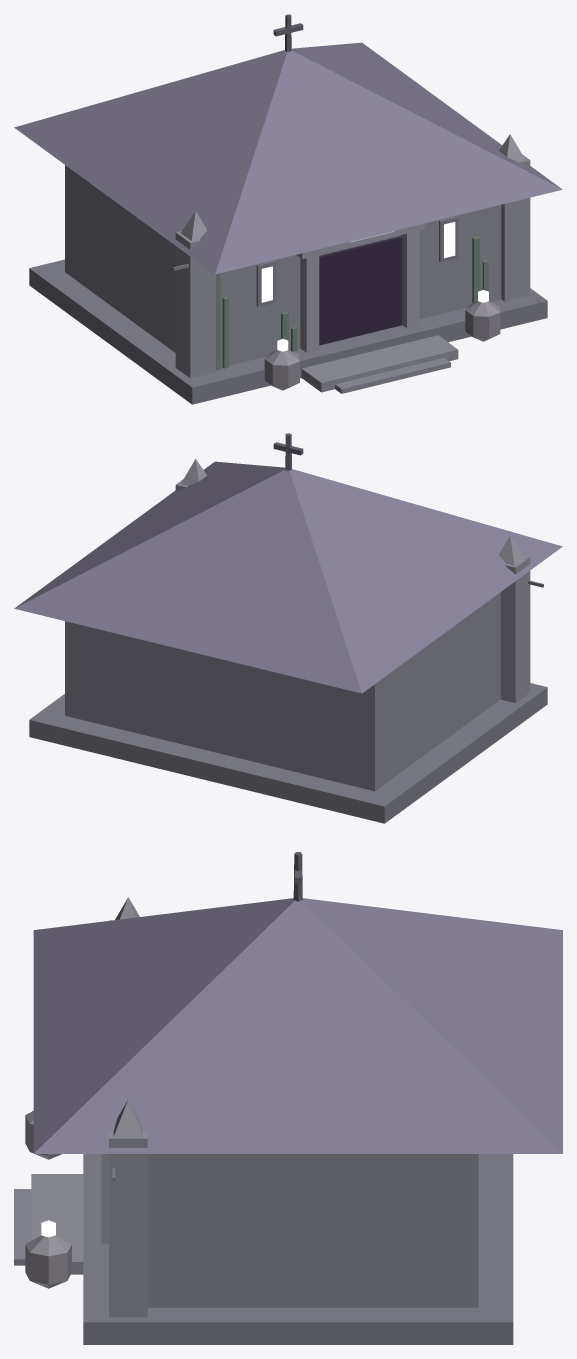
File: prop_crypt.glb
3 renders of one model, top to bottom at view 1: azimuth 30°, elevation 25°; view 2: azimuth 150°, elevation 25°; view 3: azimuth 270°, elevation 25°, orthographic. The views are drawn at different scales.
Parts seen in each view (by area): view 1: body, glow; view 2: body; view 3: body.
Part boxes in pixels (x1,y1,x2,y2): body: (14, 14, 562, 404); glow: (261, 222, 488, 351); body: (14, 433, 562, 823); body: (14, 852, 562, 1344).
Size of the model in its own units: 8.12 by 6 by 7.92.
